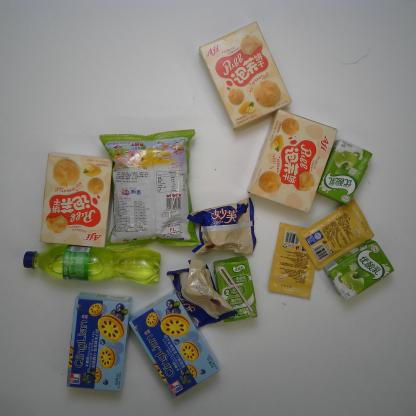Dessert: (198, 21, 292, 131), (128, 289, 220, 398), (247, 109, 338, 214), (39, 151, 114, 248), (66, 292, 132, 392), (166, 258, 238, 330), (186, 197, 257, 254)
Drink: (22, 244, 161, 285)
Milk: (323, 239, 394, 302), (316, 138, 372, 206), (212, 255, 258, 323)
Puffed Food: (98, 129, 200, 249)
Seasoner: (296, 198, 374, 272), (268, 222, 316, 299)
